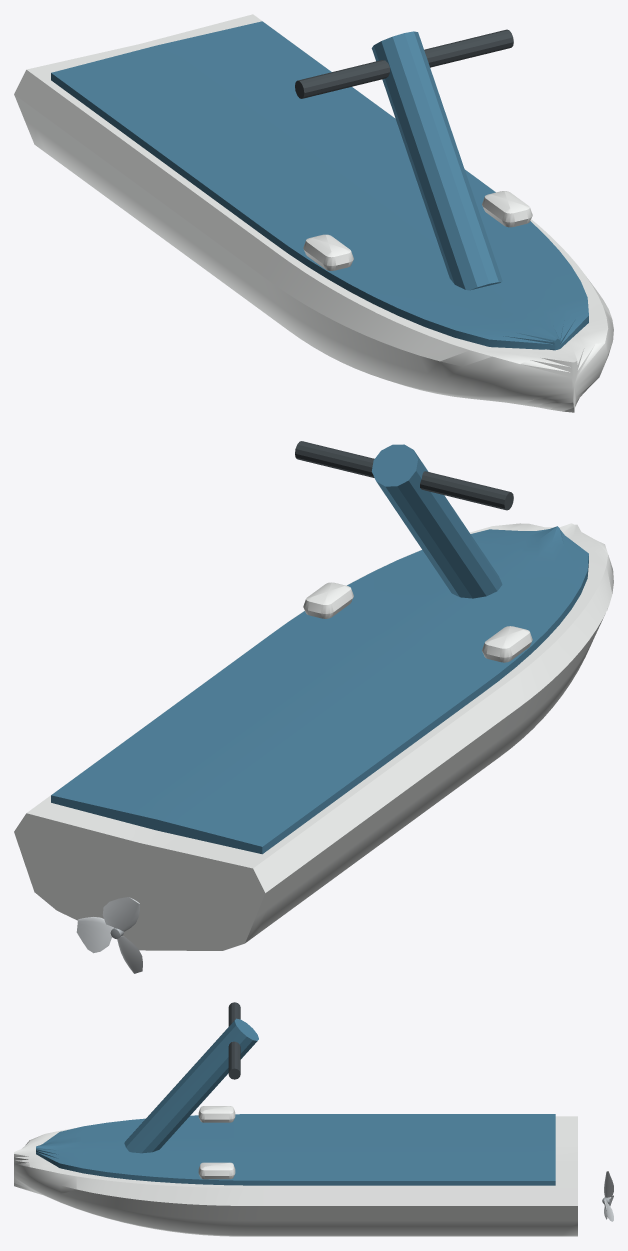
Rendered from 1-powerboat-racing-and-launch-ramp-stand-up-jet-ski-646a965f.glb.
3 renders of one model, top to bottom at view 1: azimuth 30°, elevation 25°; view 2: azimuth 150°, elevation 25°; view 3: azimuth 270°, elevation 25°, orthographic. The views are drawn at different scales.
Parts seen in each view (by area): view 1: stand-up-jet-ski, handlebar; view 2: stand-up-jet-ski, handlebar, propeller; view 3: stand-up-jet-ski, handlebar, propeller.
Boxes of the visible parts, left/top/right/bottom form: stand-up-jet-ski: left=14, top=14, right=613, bottom=412; handlebar: left=295, top=29, right=513, bottom=98; stand-up-jet-ski: left=14, top=444, right=613, bottom=950; handlebar: left=295, top=441, right=513, bottom=510; propeller: left=76, top=897, right=142, bottom=973; stand-up-jet-ski: left=14, top=1018, right=577, bottom=1236; handlebar: left=228, top=1002, right=240, bottom=1079; propeller: left=604, top=1171, right=613, bottom=1221.
Bounding box in the file's own units: 0.768 × 0.9203 × 2.45.
